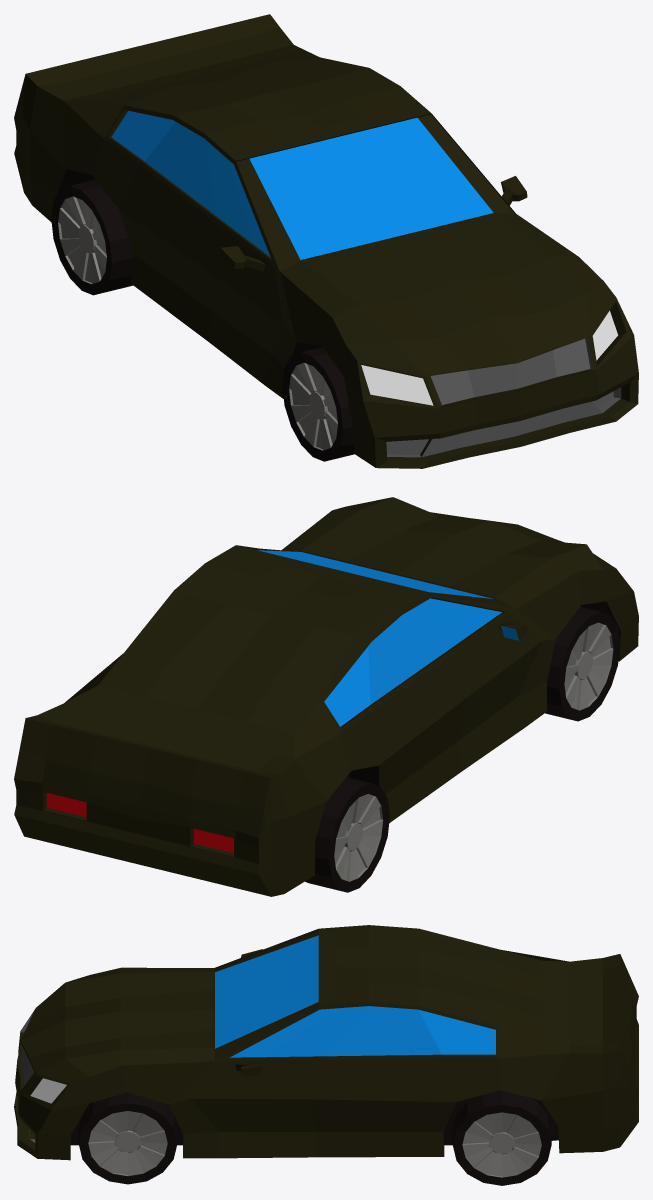
File: Car.fbx
3 views of the same model, one above another, from view 1: azimuth 30°, elevation 25°; view 2: azimuth 150°, elevation 25°; view 3: azimuth 270°, elevation 25° (orthographic). The views are drawn at different scales.
Visible parts, largest first — view 1: Avto, rr, fr; view 2: Avto, rr, fr; view 3: Avto, rl, fl.
Boxes of the visible parts, box(x1,y1,x2,y2) form: Avto: box(14, 14, 638, 468); rr: box(51, 179, 133, 295); fr: box(282, 347, 354, 461); Avto: box(14, 497, 638, 896); rr: box(305, 777, 389, 892); fr: box(545, 607, 620, 721); Avto: box(14, 925, 638, 1160); rl: box(452, 1090, 551, 1185); fl: box(78, 1092, 177, 1184).
Bounding box in the file's own units: 2.16 × 1.43 × 4.84.
